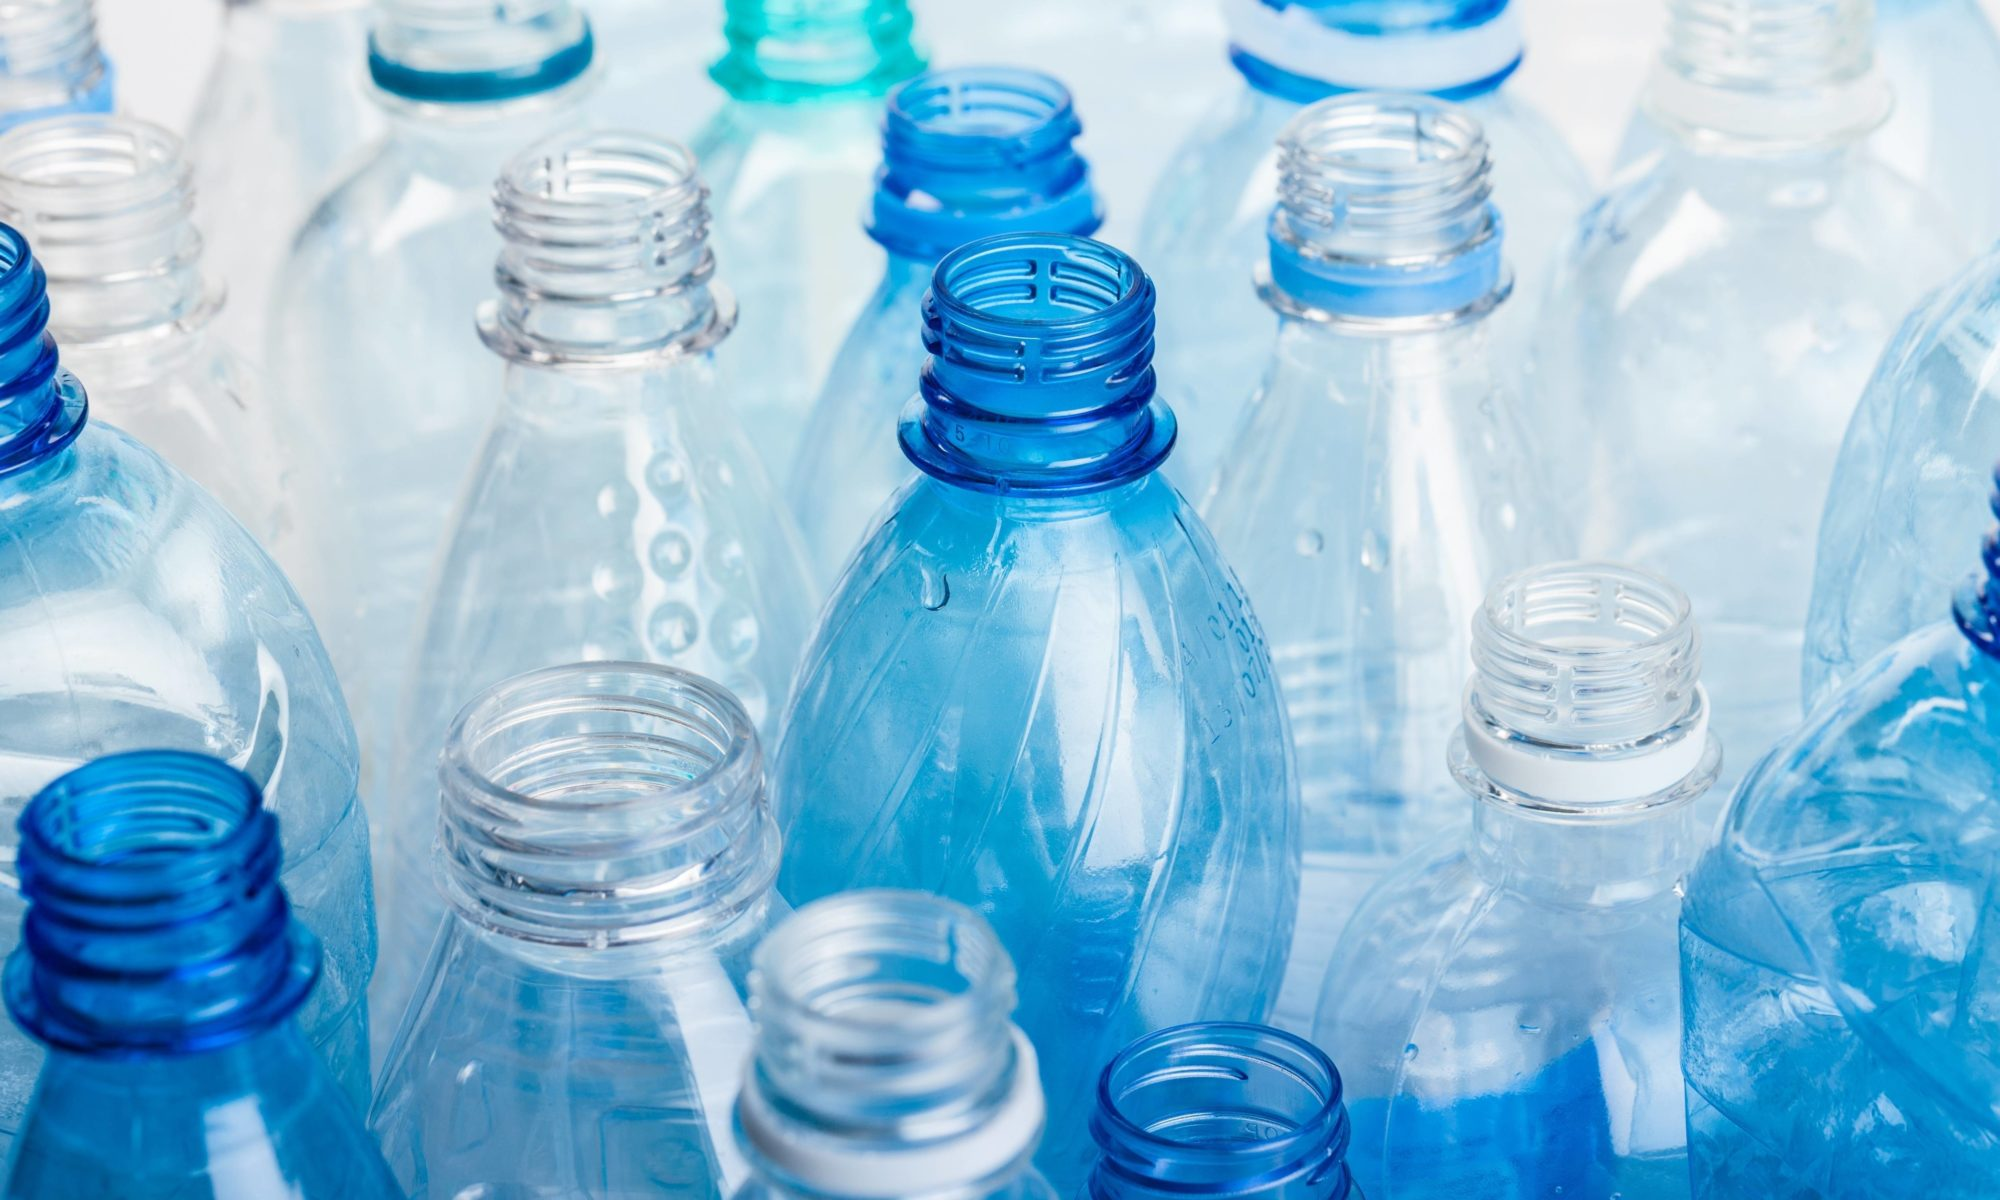plastic_bottle: (767, 226, 1310, 889), (1, 213, 361, 1200), (1201, 81, 1614, 856), (1334, 549, 1729, 1200), (386, 117, 819, 660), (1680, 471, 2000, 1200), (377, 656, 786, 1200), (3, 744, 381, 1200), (724, 877, 1059, 1199), (1077, 994, 1343, 1200)
